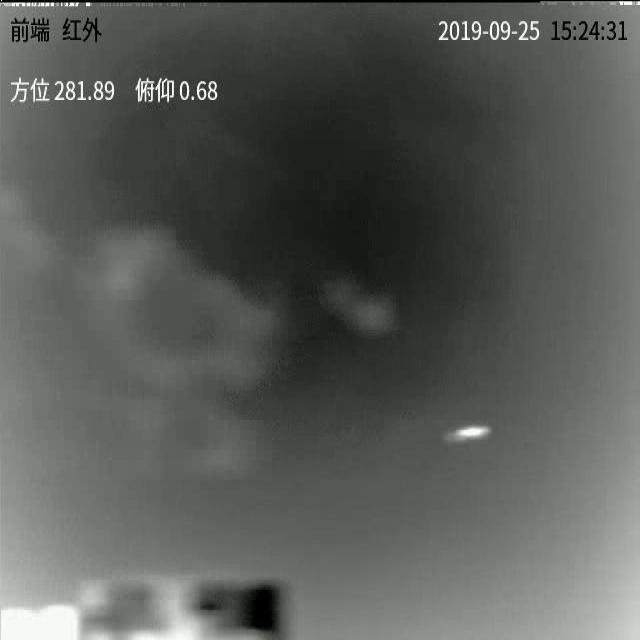drone: (445, 427, 491, 443)
